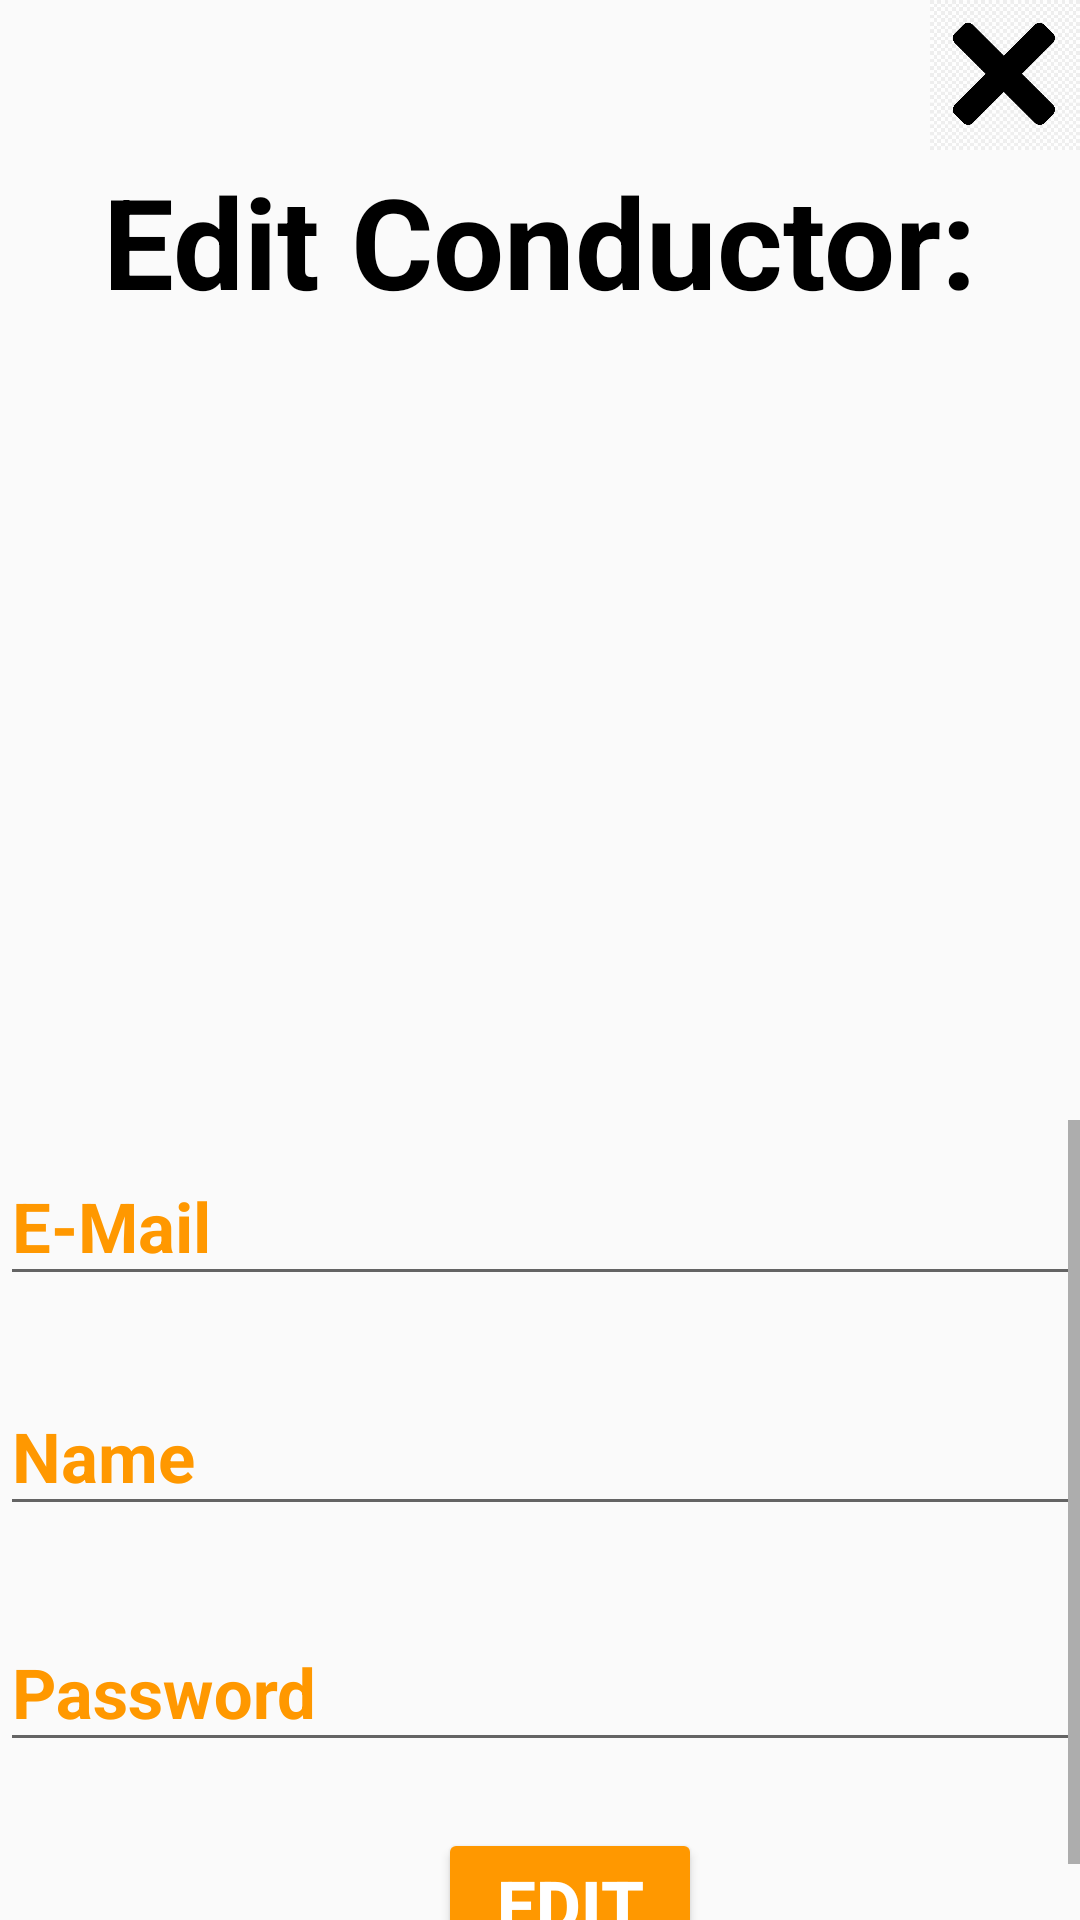

Screen size 1080x1920. Icon name, then its center in pixels as (x,y):
close window: (1004,74)
